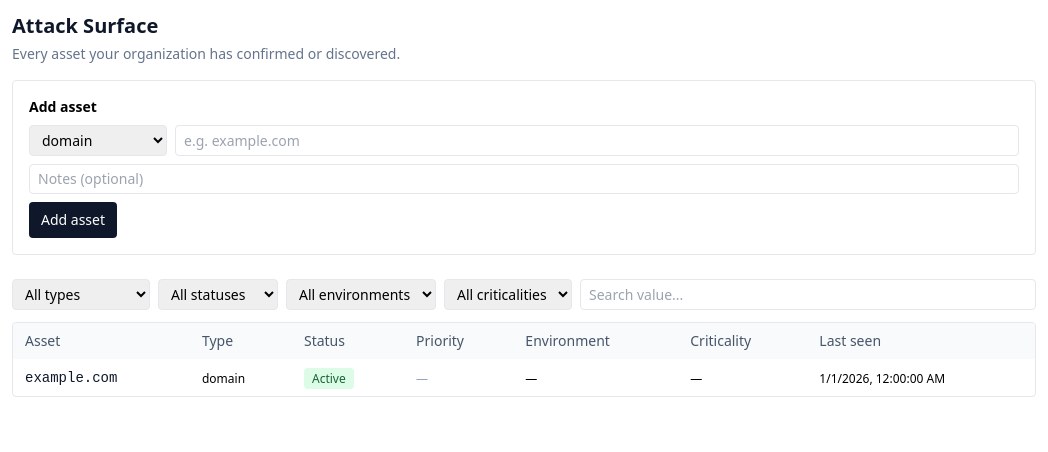
Scenario: AssetsPage › creates an asset and reflects it in the list
Expected: the link "example.com" is shown, [25, 370, 117, 386]
Type "203.0.113.9" into the field with placeholder "e.g. example.com" at (597, 140), box [175, 125, 1019, 156]
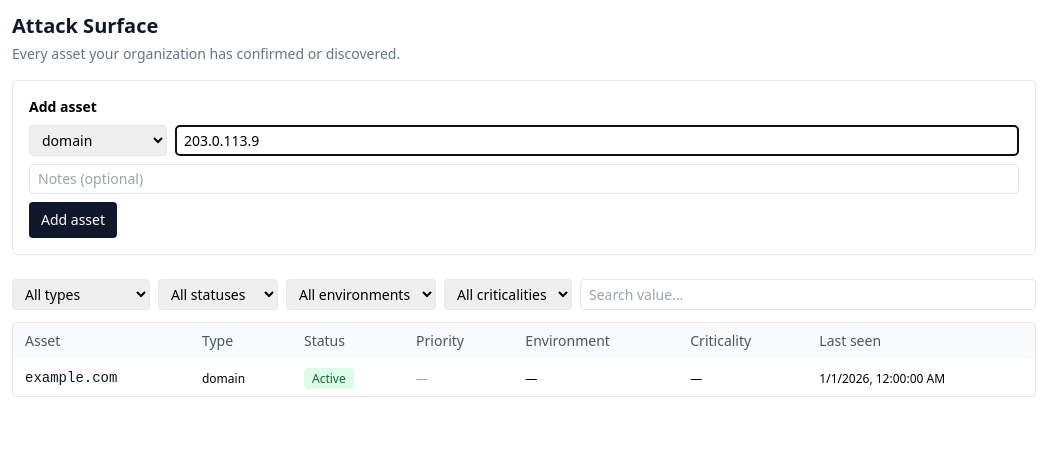
Click the button "Add asset" at (73, 220), box [29, 202, 117, 238]
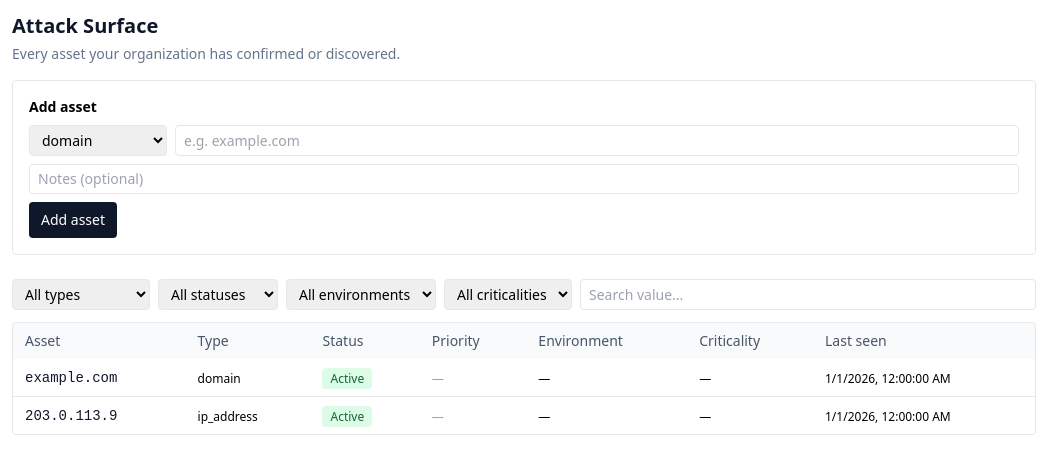
Now the link "203.0.113.9" is shown, box [25, 408, 117, 424]
